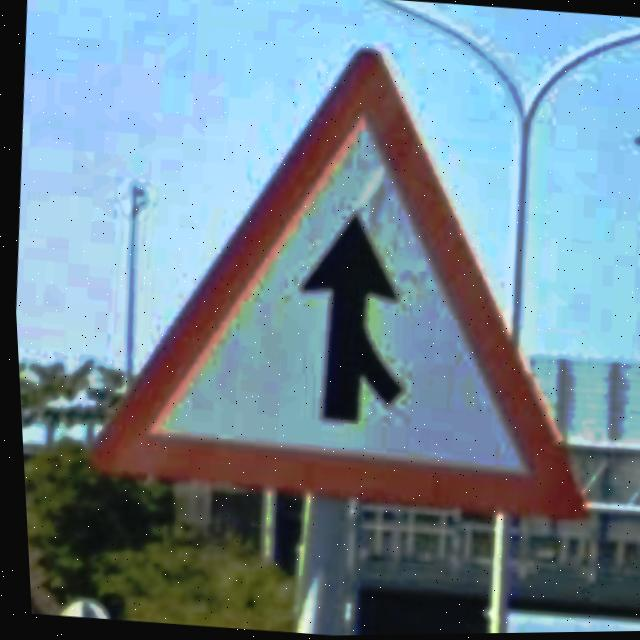rightmerge: (83, 50, 582, 524)
